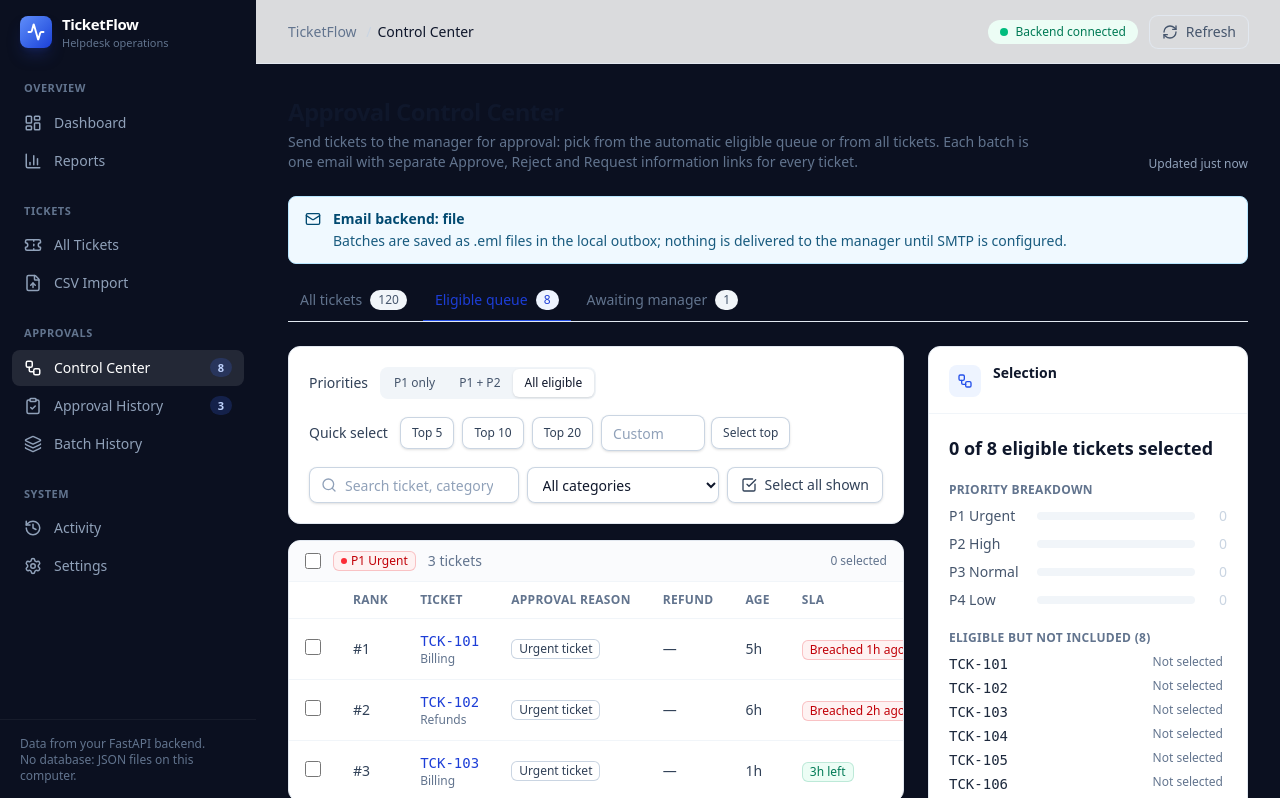
Test: Approval Control Center › shows the server error when a ticket was already submitted
expect the link "TCK-101" is shown: met, box [420, 633, 479, 649]
Click the checkbox named "Select TCK-101": coordinates (313, 646) [305, 638, 321, 654]
(page scrolled)
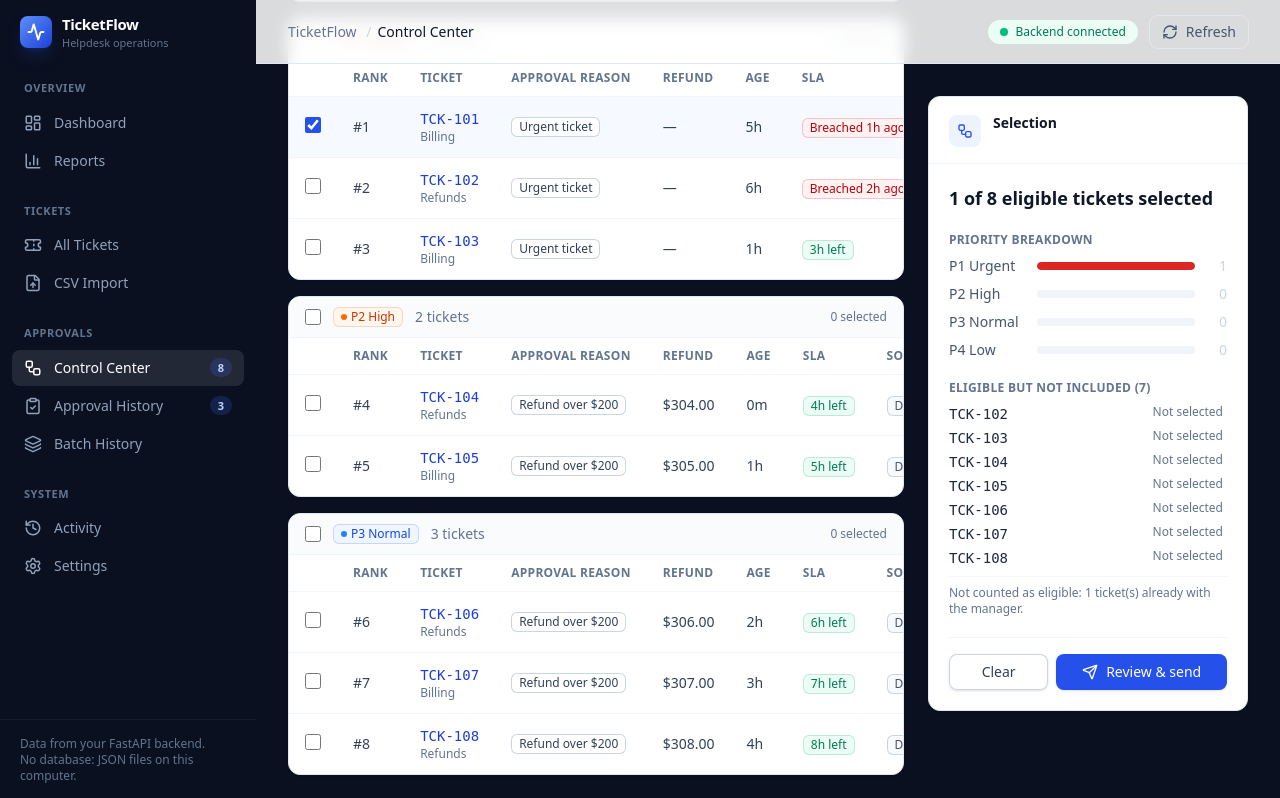
Click the button "Review & send": coordinates (1142, 672) [1056, 654, 1227, 690]
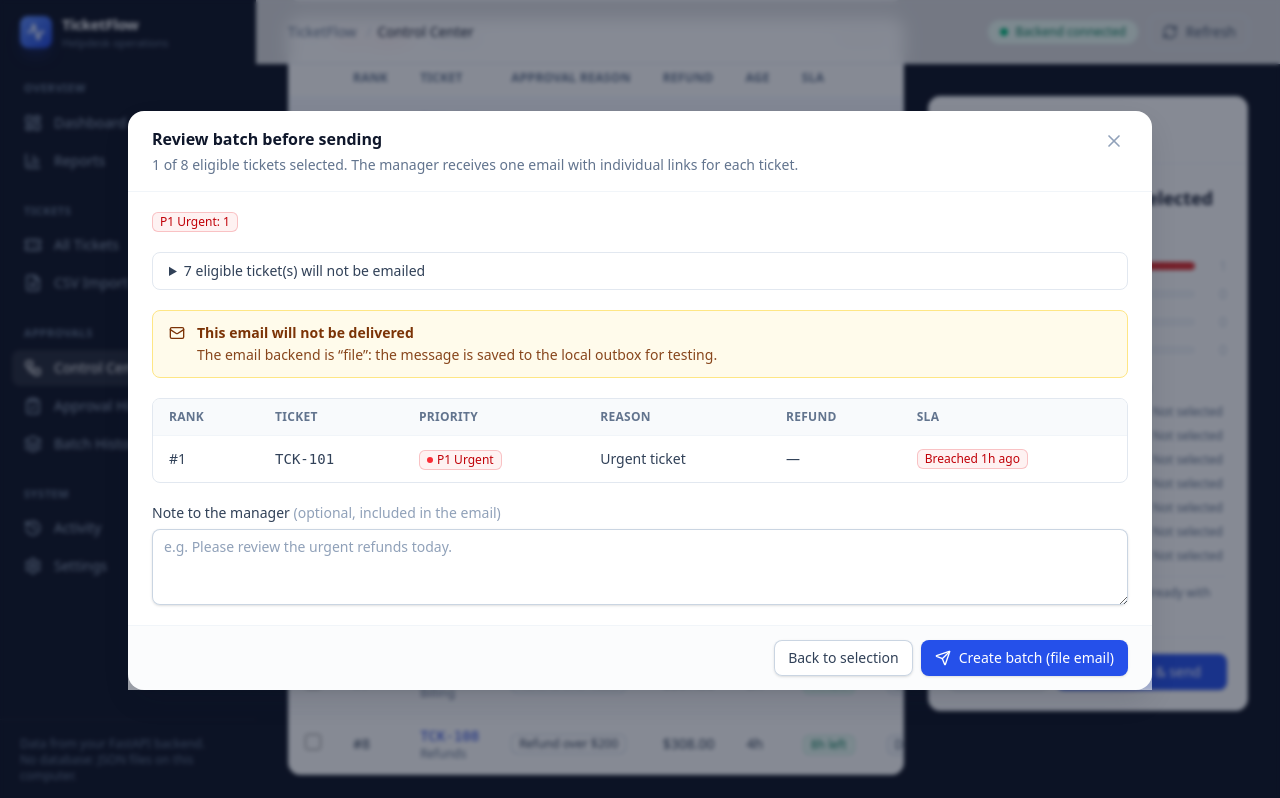
Click the button "Create batch (file email)": coordinates (1024, 658) [921, 640, 1128, 676]
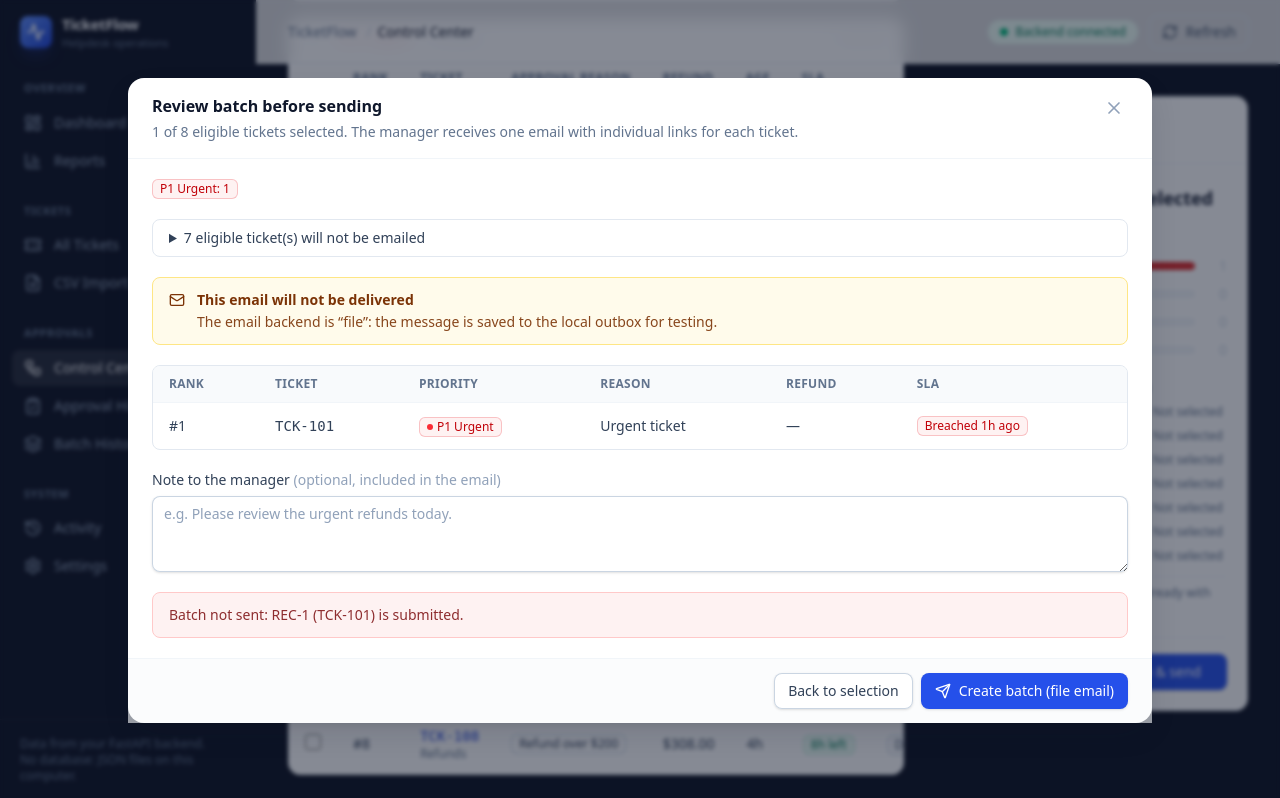
expect the text "Batch not sent: REC-1 (TCK-101) is submitted." is shown: met, box [169, 604, 464, 624]
